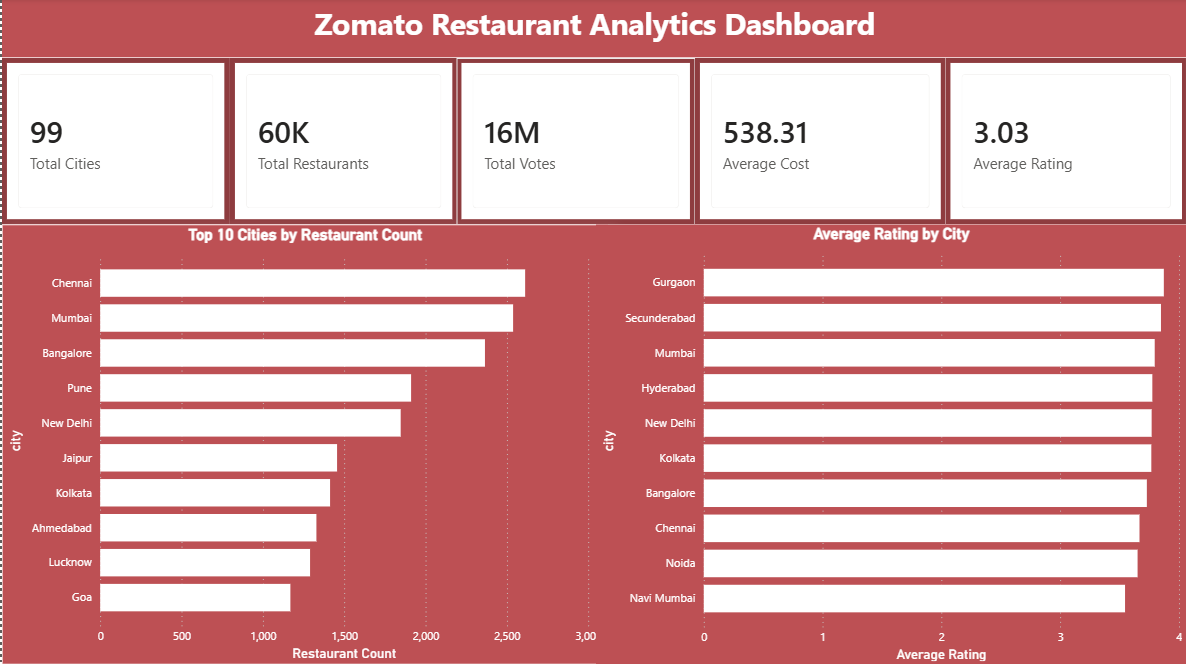

What the dashboard file says about the page in this screenshot:
{"tool":"powerbi","page":{"name":"Page 1","canvas":[1280,720],"ordinal":0},"visuals":[{"type":"cardVisual","fields":{"Data":["zomato_cleaned.Total Cities"]},"box":[0,64.3,245.7,179.5],"z":0},{"type":"cardVisual","fields":{"Data":["zomato_cleaned.Total Restaurants"]},"box":[245.7,64.3,245.7,179.5],"z":1000},{"type":"cardVisual","fields":{"Data":["zomato_cleaned.Total Votes"]},"box":[491.3,64.3,257,179.5],"z":2000},{"type":"cardVisual","fields":{"Data":["zomato_cleaned.Average Cost"]},"box":[748.4,64.3,270.2,179.5],"z":3000},{"type":"textbox","box":[0,0,1279.4,64.3],"z":4000},{"type":"cardVisual","fields":{"Data":["zomato_cleaned.Average Rating"]},"box":[1018.6,64.3,260.8,179.5],"z":5000},{"type":"clusteredBarChart","title":"Top 10 Cities by Restaurant Count","fields":{"Category":["zomato_cleaned.city"],"Y":["CountNonNull(zomato_cleaned.name)"]},"box":[0,243.8,653.9,476.2],"z":6000},{"type":"clusteredBarChart","title":"Average Rating by City","fields":{"Category":["zomato_cleaned.city"],"Y":["Avg(zomato_cleaned.aggregate_rating)"]},"box":[641.2,244.5,638,476.1],"z":7000}]}

Visuals, with their boxes in screenshot pixels (x1, y1, x2, y2), scaled from the page's 1280x720 canvas onto the 1186x664 screenshot:
cardVisual - zomato_cleaned.Total Cities: l=0, t=59, r=228, b=225
cardVisual - zomato_cleaned.Total Restaurants: l=228, t=59, r=455, b=225
cardVisual - zomato_cleaned.Total Votes: l=455, t=59, r=693, b=225
cardVisual - zomato_cleaned.Average Cost: l=693, t=59, r=944, b=225
textbox: l=0, t=0, r=1185, b=59
cardVisual - zomato_cleaned.Average Rating: l=944, t=59, r=1185, b=225
"Top 10 Cities by Restaurant Count" clusteredBarChart: l=0, t=225, r=606, b=663
"Average Rating by City" clusteredBarChart: l=594, t=225, r=1185, b=663
